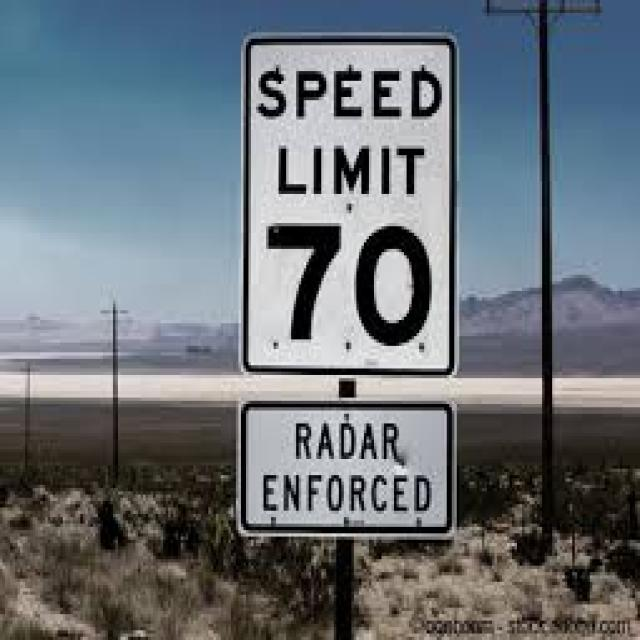speedLimit70: (238, 32, 460, 375)
